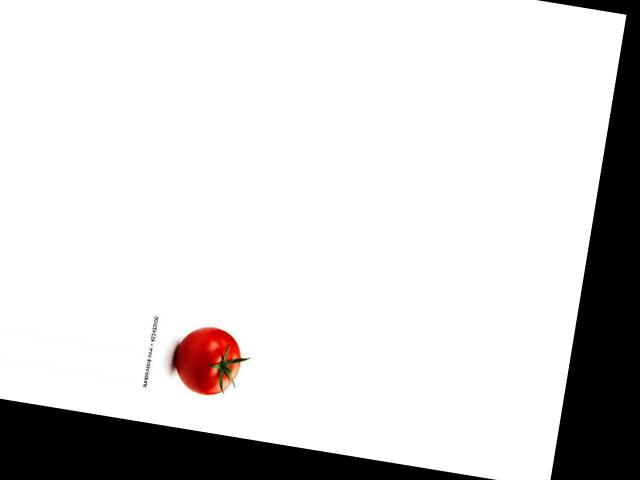tomato: (170, 322, 245, 398)
